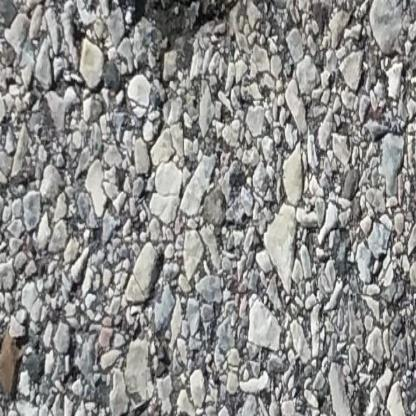Cracks: (127, 0, 269, 38)
